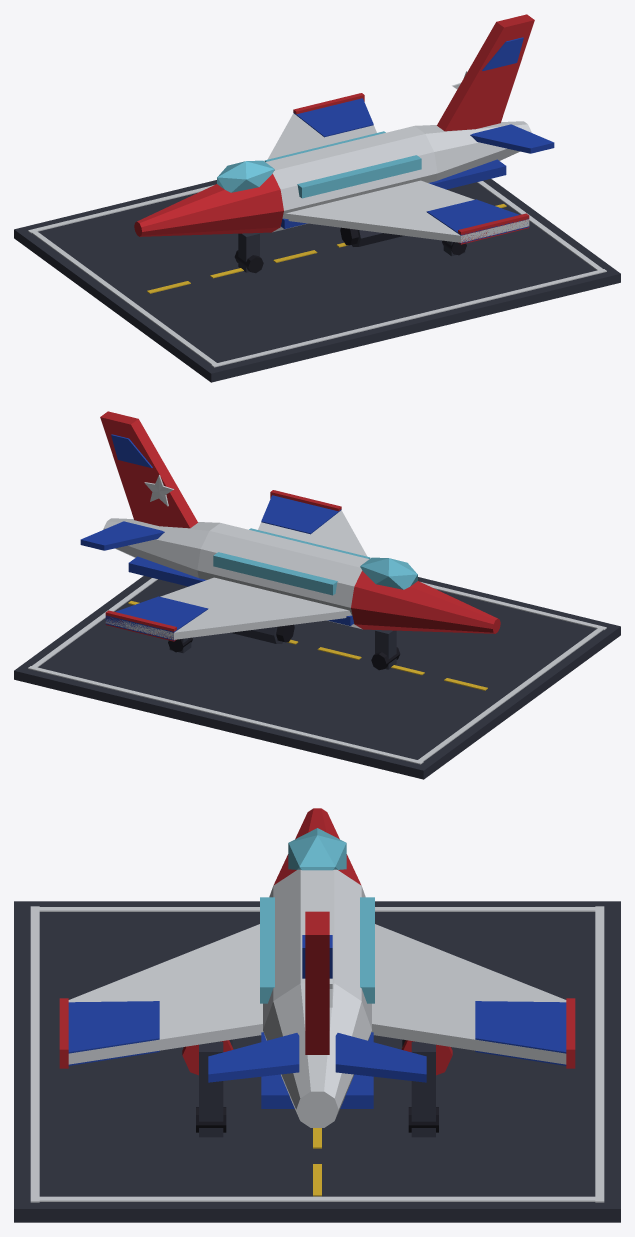
The model's file is Decor_HeroHQ_Jet.fbx.
The picture shows the model from 3 angles, top to bottom: view 1: azimuth 30°, elevation 25°; view 2: azimuth 150°, elevation 25°; view 3: azimuth 270°, elevation 25°; orthographic projection. The views are drawn at different scales.
Parts seen in each view (by area): view 1: Jet_Body; view 2: Jet_Body; view 3: Jet_Body.
Boxes of the visible parts, bbox=[...] form: Jet_Body: bbox=[14, 14, 620, 382]; Jet_Body: bbox=[14, 411, 620, 779]; Jet_Body: bbox=[14, 808, 620, 1222].
Size of the model in its own units: 24.5 by 10.7 by 20.
